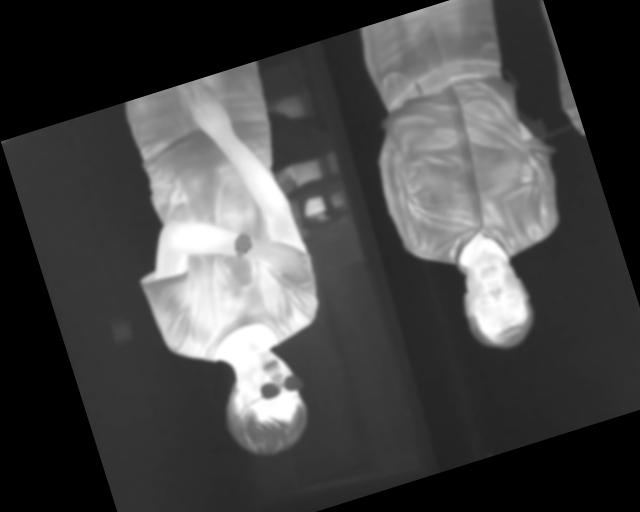face: (208, 340, 319, 466), (449, 242, 545, 360)
